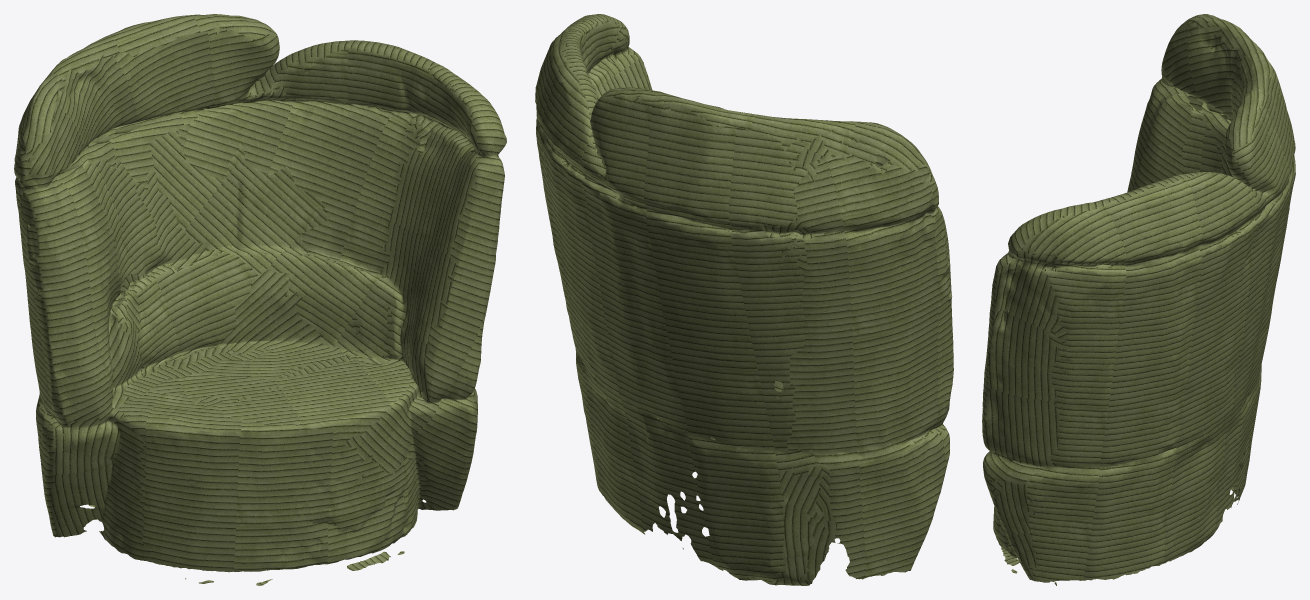
File: Oba-green.glb
3 views of the same model, side by side, from view 1: azimuth 30°, elevation 25°; view 2: azimuth 150°, elevation 25°; view 3: azimuth 270°, elevation 25° (orthographic). The views are drawn at different scales.
Visible parts, largest first — view 1: unnamed_n3d4; view 2: unnamed_n3d4; view 3: unnamed_n3d4.
Boxes of the visible parts, left/top/right/bottom form: unnamed_n3d4: left=14, top=14, right=506, bottom=585; unnamed_n3d4: left=535, top=14, right=953, bottom=585; unnamed_n3d4: left=982, top=14, right=1295, bottom=585.
Size of the model in its own units: 1.53 by 1.65 by 1.05.
1 material, 1 textured.
